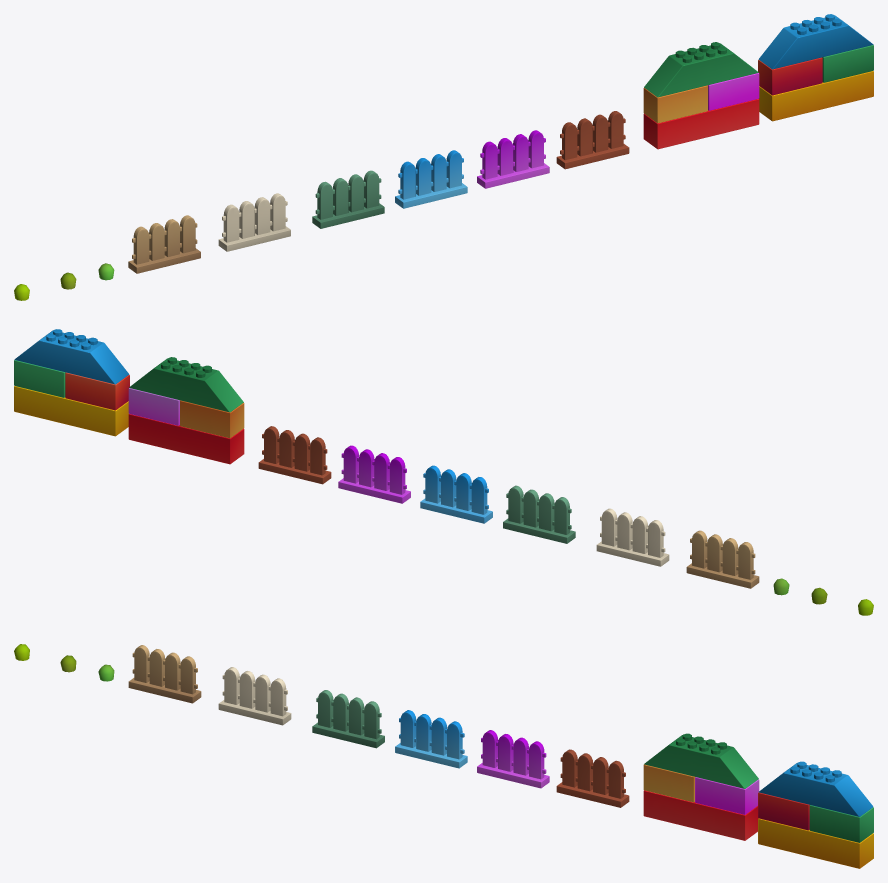
File: env1.fbx
The picture shows the model from 3 angles, top to bottom: view 1: azimuth 30°, elevation 25°; view 2: azimuth 150°, elevation 25°; view 3: azimuth 330°, elevation 25°; orthographic projection.
Parts seen in each view (by area): view 1: wall2, wall1, fence3, fence4, fence5, fence6, fence1, fence2; view 2: wall2, wall1, fence2, fence4, fence1, fence5, fence6, fence3; view 3: wall1, wall2, fence1, fence2, fence4, fence6, fence3, fence5.
Boxes of the visible parts, <box> form: wall2: <box>643,42,759,149</box>; wall1: <box>758,14,873,121</box>; fence3: <box>312,170,384,228</box>; fence4: <box>218,193,290,251</box>; fence5: <box>128,215,200,273</box>; fence6: <box>556,111,629,169</box>; fence1: <box>477,130,549,188</box>; fence2: <box>395,150,467,208</box>; wall2: <box>128,357,244,464</box>; wall1: <box>14,329,129,436</box>; fence2: <box>420,465,492,523</box>; fence4: <box>596,508,669,566</box>; fence1: <box>338,445,410,503</box>; fence5: <box>686,530,759,588</box>; fence6: <box>258,426,331,484</box>; fence3: <box>503,485,575,543</box>; wall1: <box>758,761,873,868</box>; wall2: <box>643,733,759,840</box>; fence1: <box>477,730,549,788</box>; fence2: <box>395,710,467,768</box>; fence4: <box>218,667,291,725</box>; fence6: <box>556,749,629,807</box>; fence3: <box>312,690,384,748</box>; fence5: <box>128,645,201,703</box>.
Size of the model in its own units: 27.48 by 2.51 by 0.8003.
